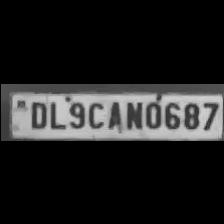0: (141, 98, 161, 128)
6: (162, 99, 180, 129)
7: (200, 99, 218, 130)
8: (180, 99, 200, 129)
9: (64, 98, 84, 128)
A: (104, 98, 124, 130)
C: (84, 98, 104, 128)
D: (26, 98, 46, 128)
L: (45, 98, 63, 128)
N: (122, 98, 142, 130)
